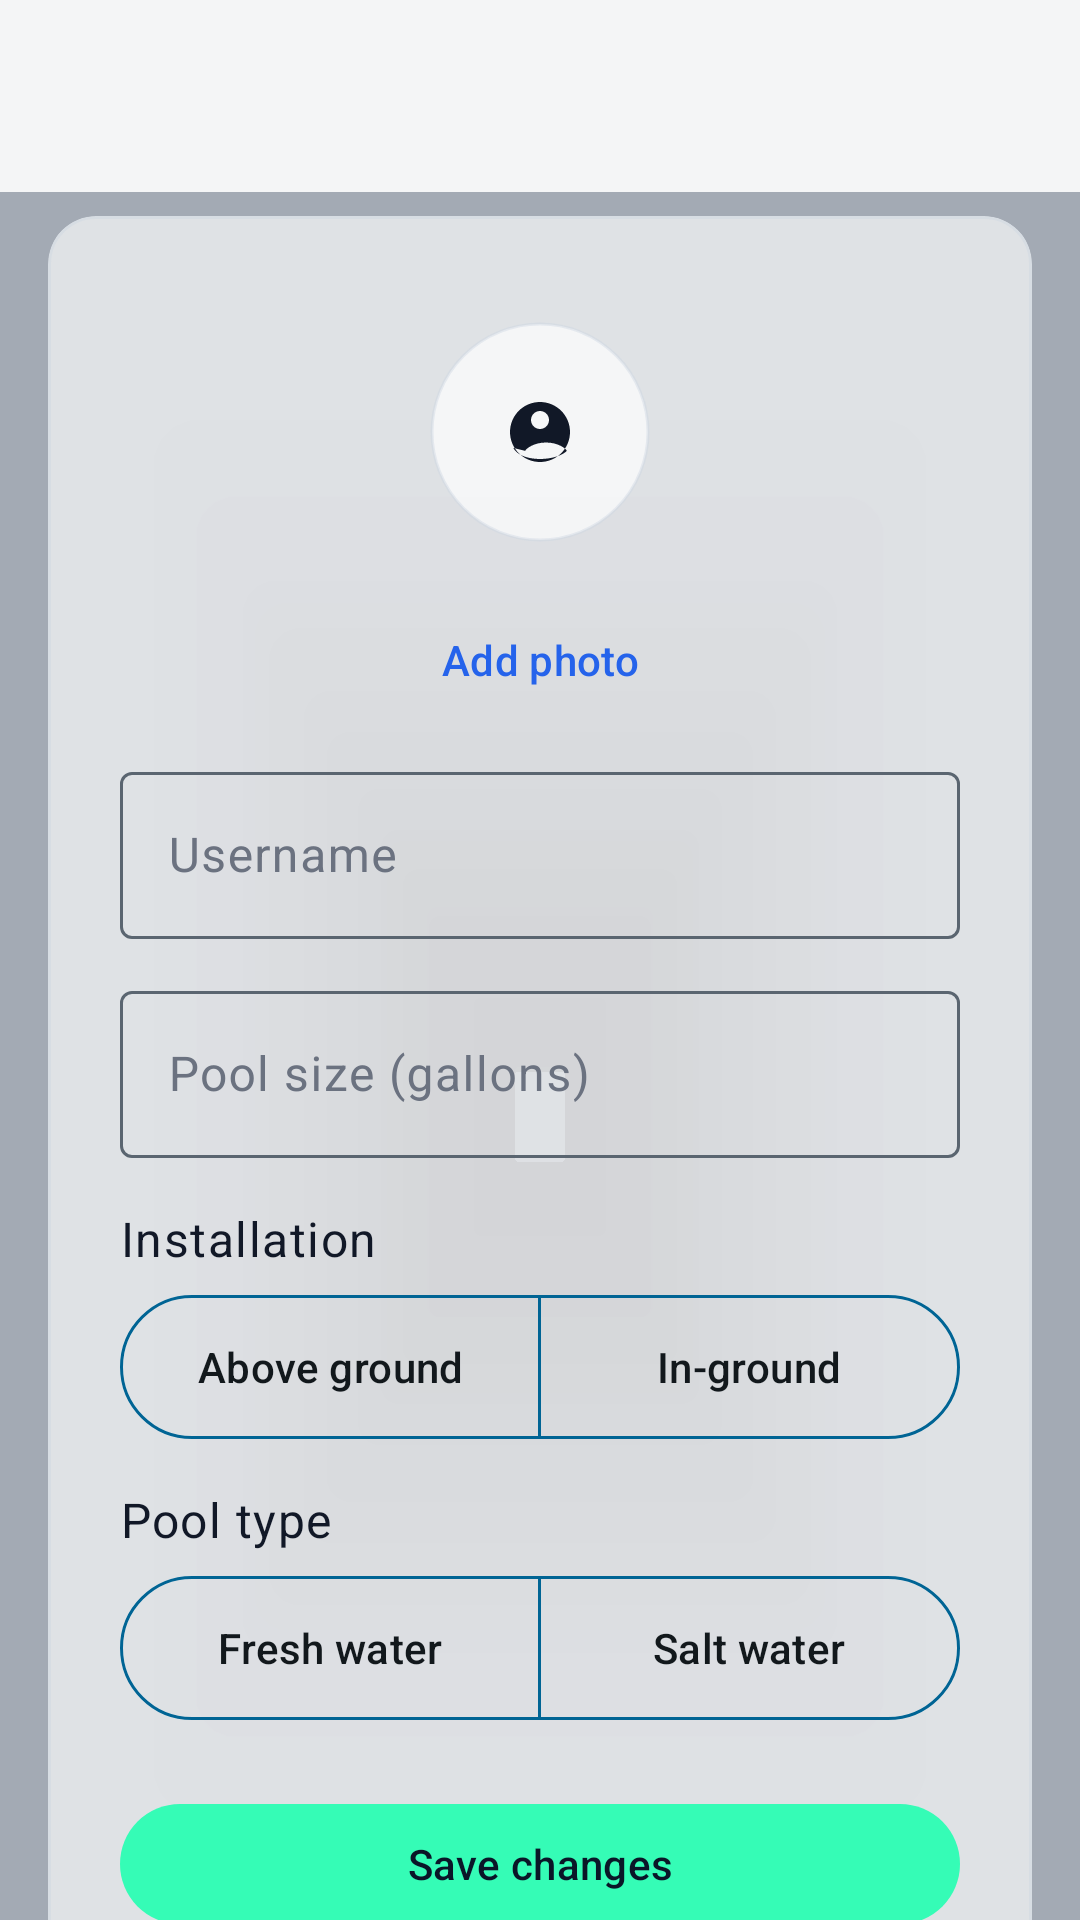

Screen size 1080px×1920px. Icon name, then its box in pixels as [x1, y1, x2, y2]:
Profile photo: [510, 402, 570, 462]
